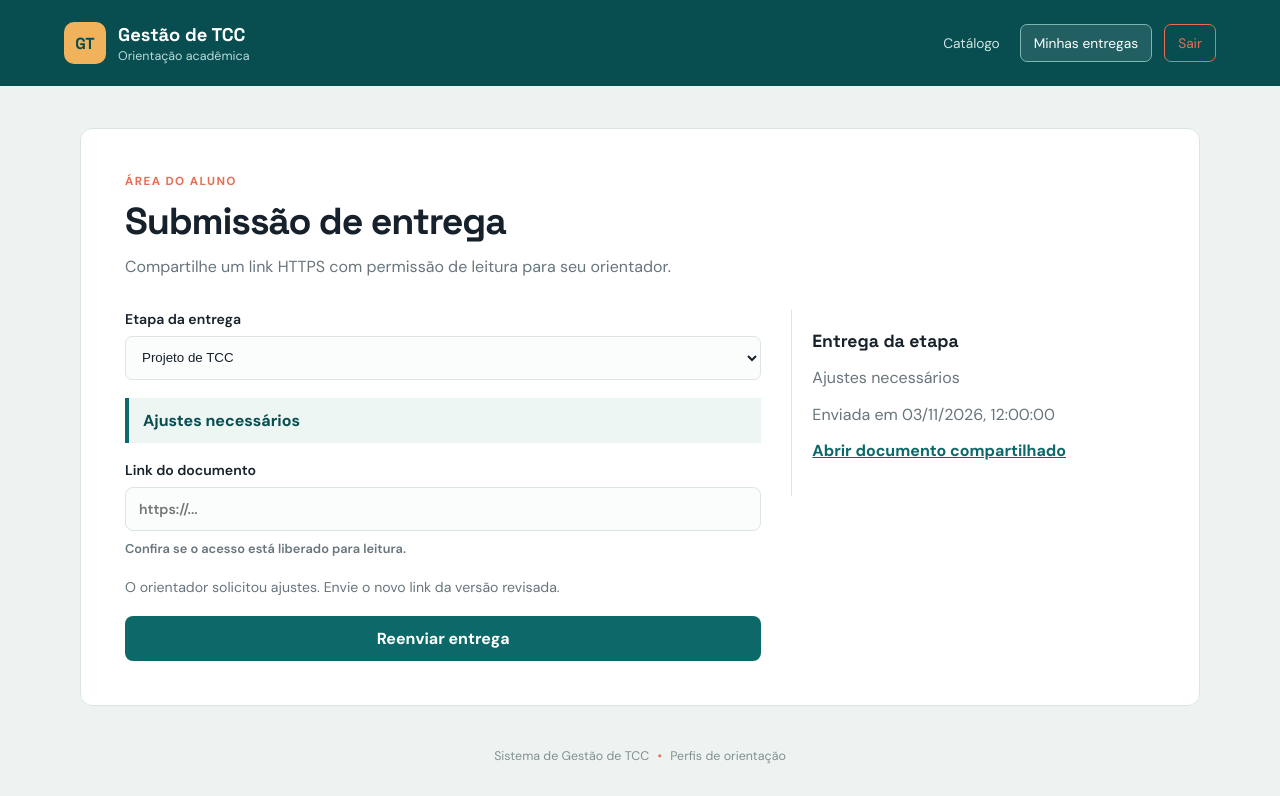
SubmissaoEntregaPage › permite reenvio quando o status é AJUSTES_NECESSARIOS
This screenshot has width=1280, height=796.
Type "https://documento.exemplo/tcc-revisado" into the field labelled "Link do documento". click: x=443, y=509
box: [125, 487, 761, 531]
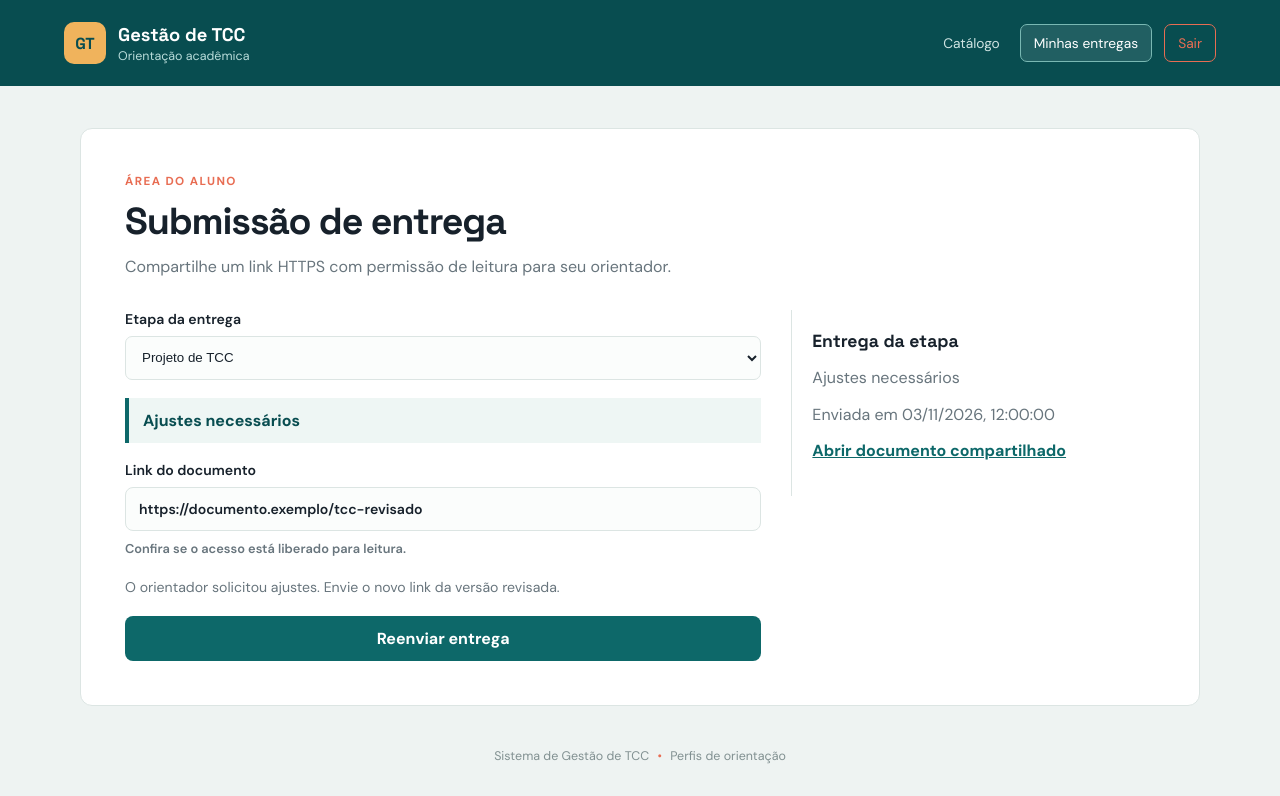
Click the button "Reenviar entrega". click: x=443, y=639
box: [125, 616, 761, 661]
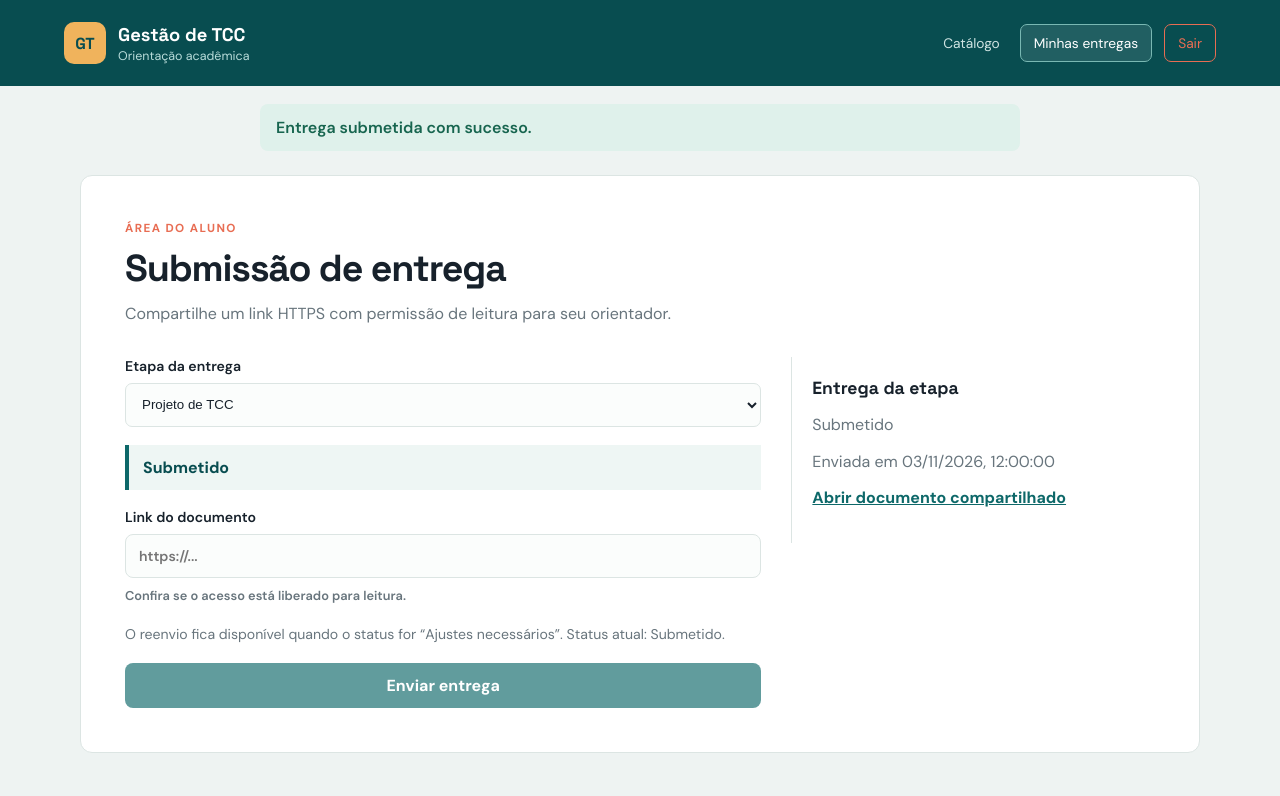
Check: the text "Entrega submetida com sucesso." is shown, box [260, 104, 1020, 151]
